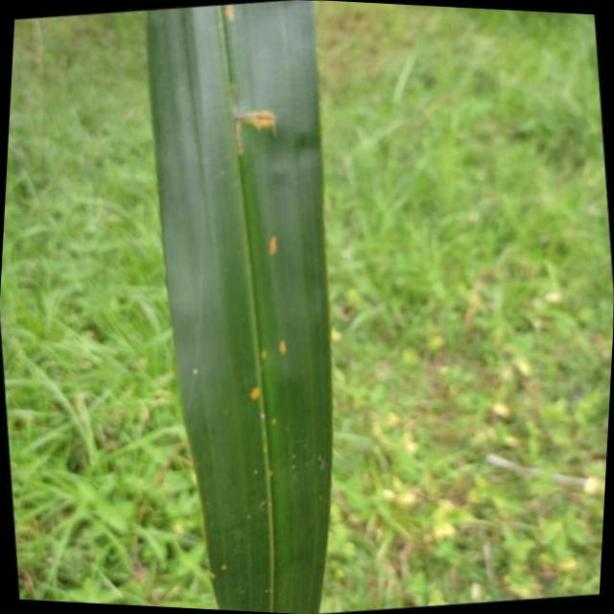Boron: (149, 0, 334, 614)
